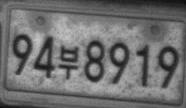1: (133, 44, 154, 87)
4: (32, 35, 55, 78)
8: (83, 40, 105, 82)
9: (156, 45, 180, 88), (108, 41, 130, 84), (11, 33, 32, 75)
부: (58, 45, 79, 80)
